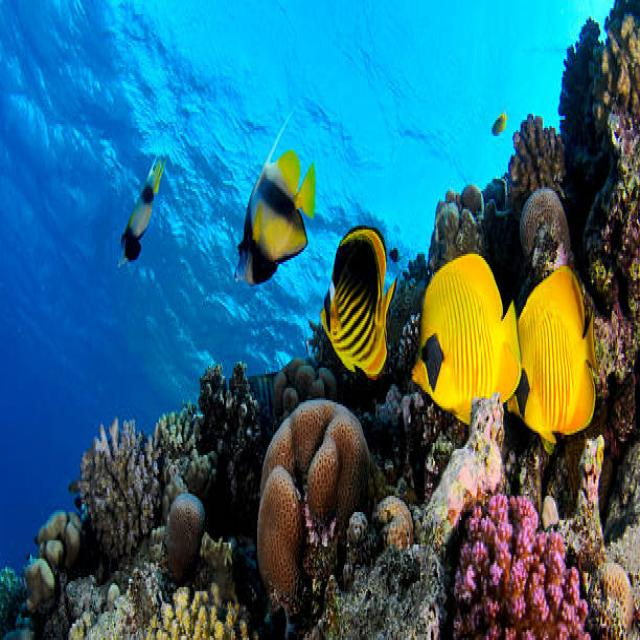ButterflyFish: (406, 252, 523, 436), (233, 116, 318, 302), (516, 261, 600, 444), (311, 215, 396, 386)
